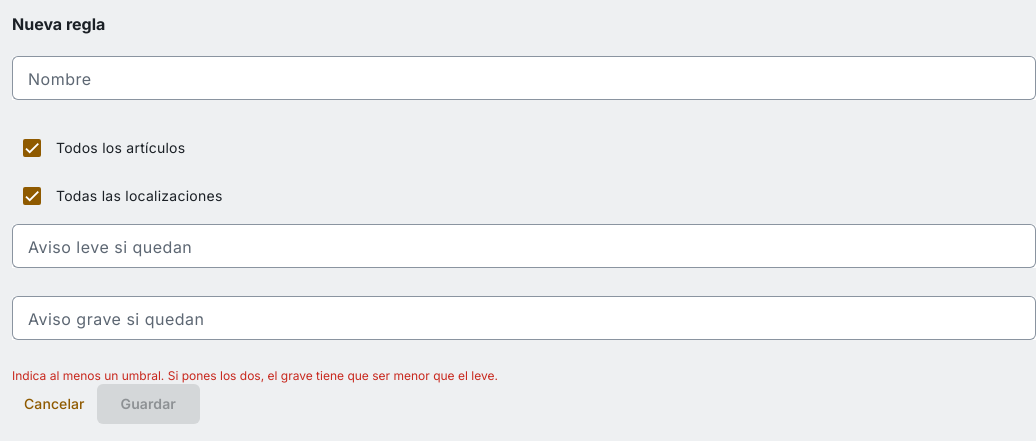
Test: AlertRuleDialogComponent › rechaza grave igual que leve
Type "Regla" into the field labelled "Nombre" at (524, 78), box [28,66,1020,90]
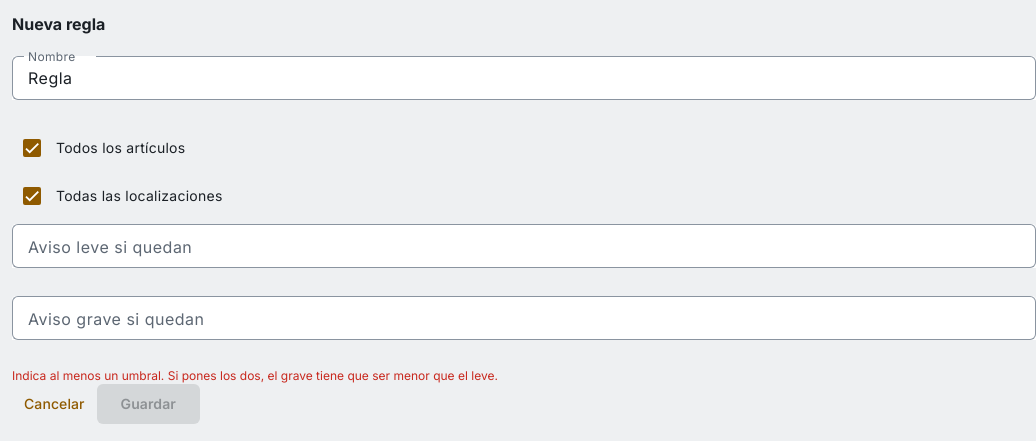
Type "2" into the number field labelled "Aviso leve si quedan" at (524, 246), box [28,234,1020,258]
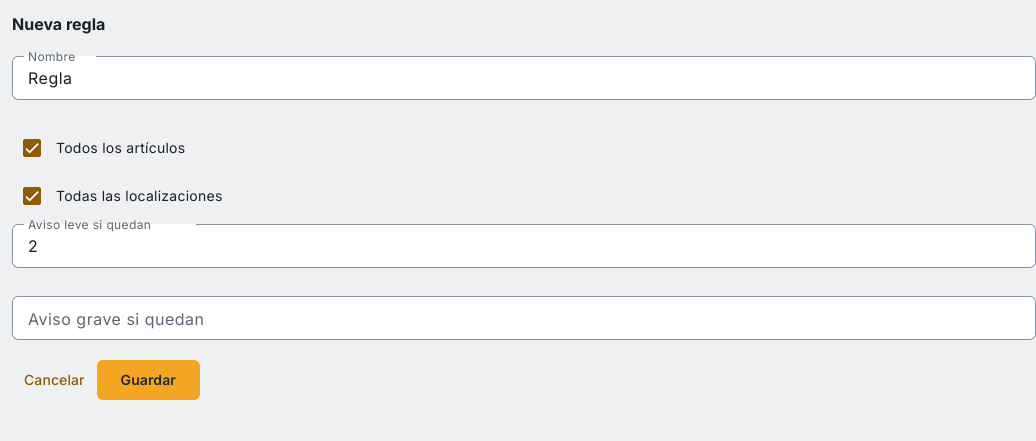
Type "2" into the number field labelled "Aviso grave si quedan" at (524, 318), box [28,306,1020,330]
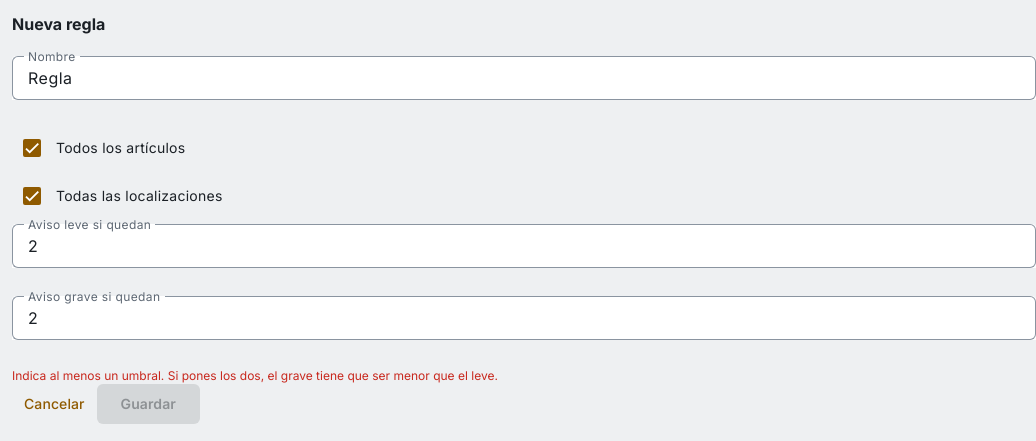
Expected: the text "Indica al menos un umbral. Si pones los dos, el grave tiene que ser menor que el leve." is shown, [12,368,498,383]
Expected: the button "Guardar" is disabled, [97,384,200,424]
